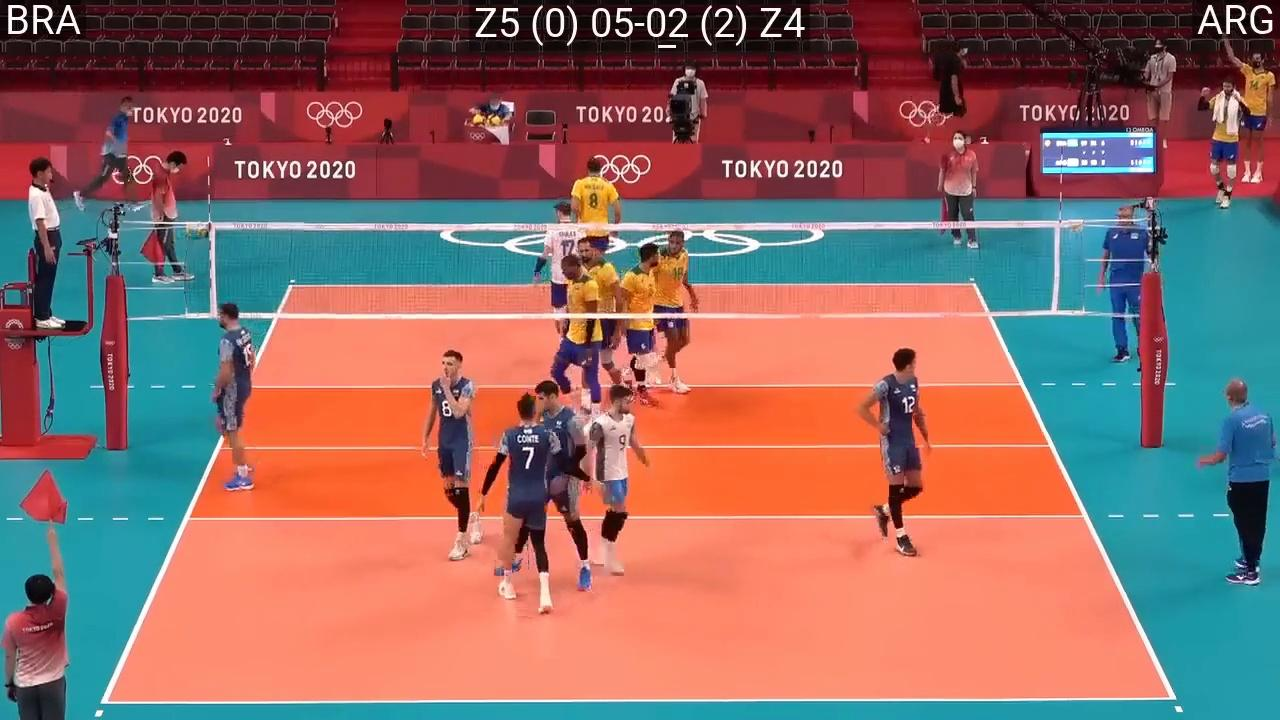ball: (470, 113, 486, 126)
